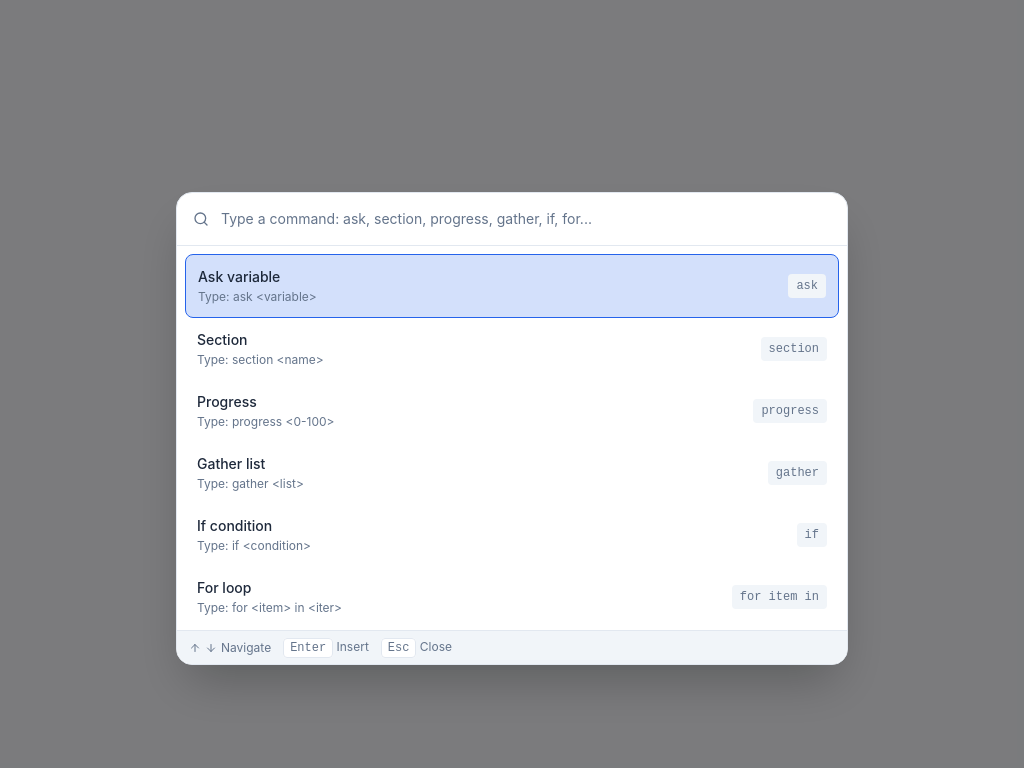
Test: CommandPalette › filters variables by query
Type "ask user" into the field with placeholder "Type a command: ask, section, progress, gather, if, for..." at (526, 219), box [221,209,831,229]
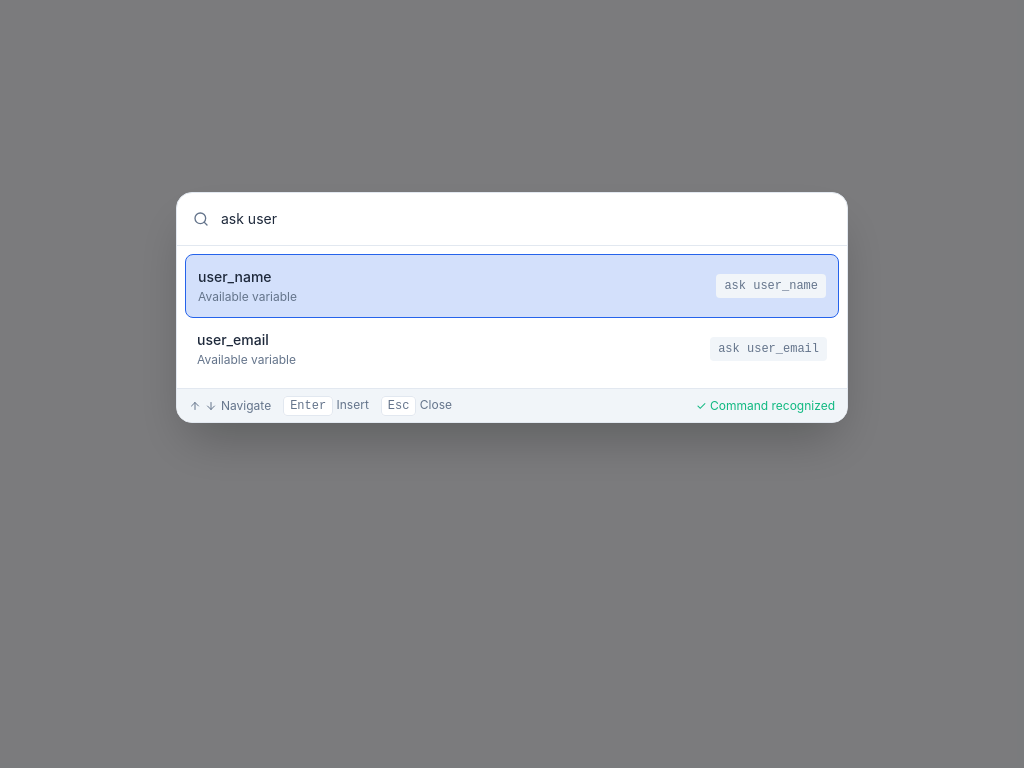
Expected: the text "user_name" is shown, [198,268,272,285]
Expected: the text "user_email" is shown, [197,331,269,348]
